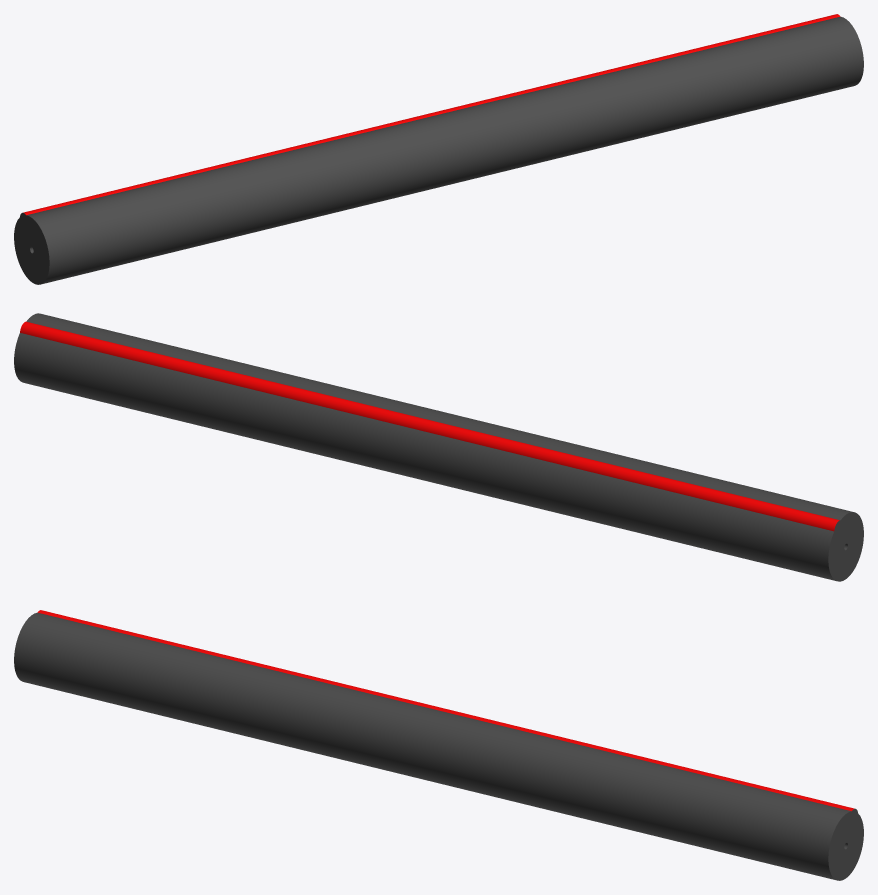
Rendered from IntakeRoller.glb.
3 views of the same model, one above another, from view 1: azimuth 30°, elevation 25°; view 2: azimuth 150°, elevation 25°; view 3: azimuth 330°, elevation 25° (orthographic).
Parts seen in each view (by area): view 1: Part 15; view 2: Part 15; view 3: Part 15.
Part boxes in pixels (left/top/right/bottom): Part 15: left=14, top=14, right=863, bottom=284; Part 15: left=14, top=313, right=863, bottom=581; Part 15: left=14, top=610, right=863, bottom=880.
Size of the model in its own units: 0.67 by 0.0508 by 0.0508.
